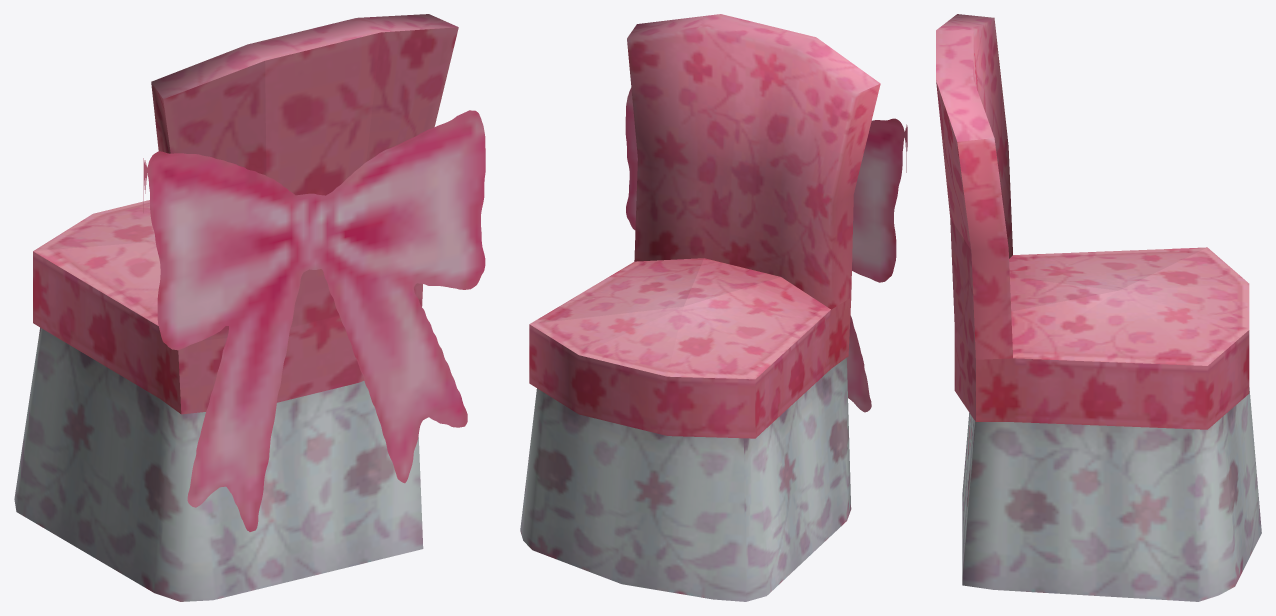
File: furni_0200036.FBX
The picture shows the model from 3 angles, left to right: view 1: azimuth 30°, elevation 25°; view 2: azimuth 150°, elevation 25°; view 3: azimuth 270°, elevation 25°; orthographic projection. The views are drawn at different scales.
Parts seen in each view (by area): view 1: furni_0200036; view 2: furni_0200036; view 3: furni_0200036.
Part boxes in pixels (<box>): furni_0200036: <box>14,14,485,601</box>; furni_0200036: <box>520,14,907,601</box>; furni_0200036: <box>936,14,1261,601</box>.
Size of the model in its own units: 59.1 by 88.28 by 54.28.
Materials: 1 (1 with a texture image).
